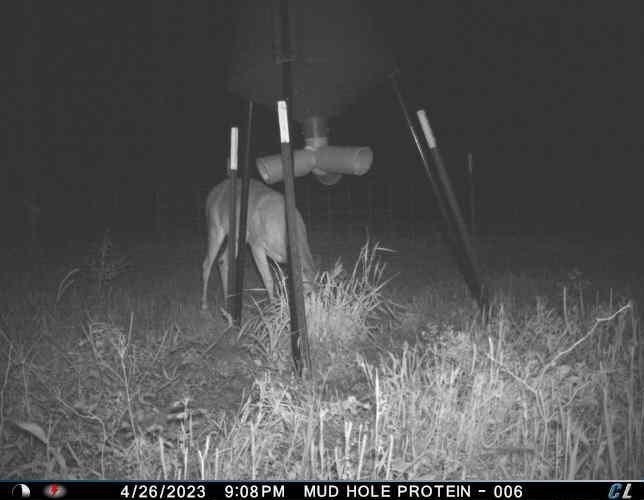Deer: (196, 171, 331, 320)
